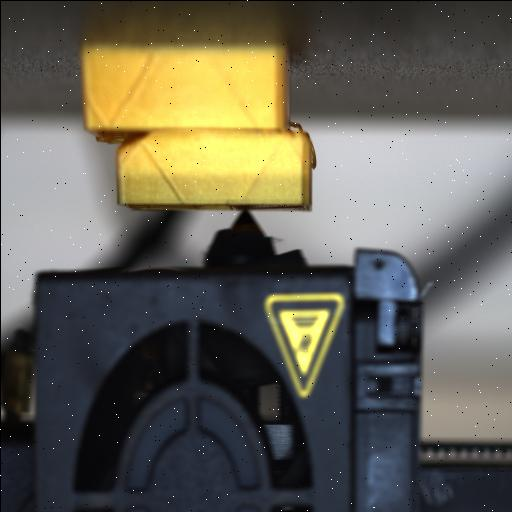layer_shift: (76, 122, 312, 150)
